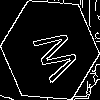W: (25, 25, 81, 88)
